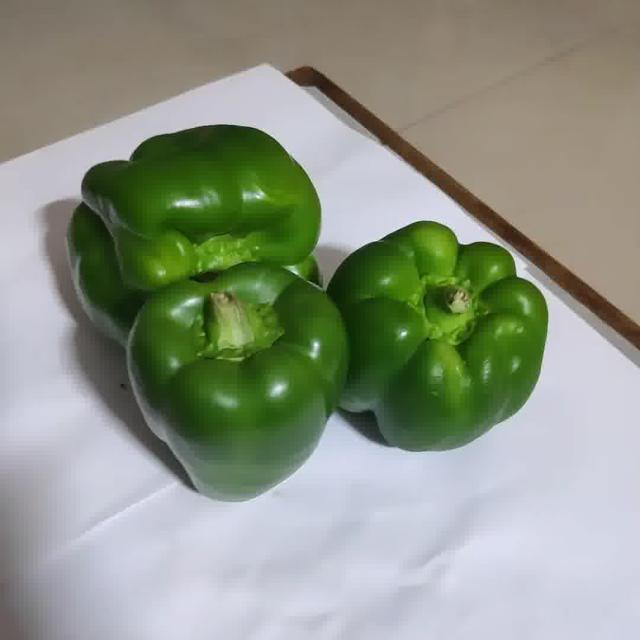Bell Pepper: (66, 126, 321, 343), (126, 262, 347, 501), (325, 222, 547, 451)
